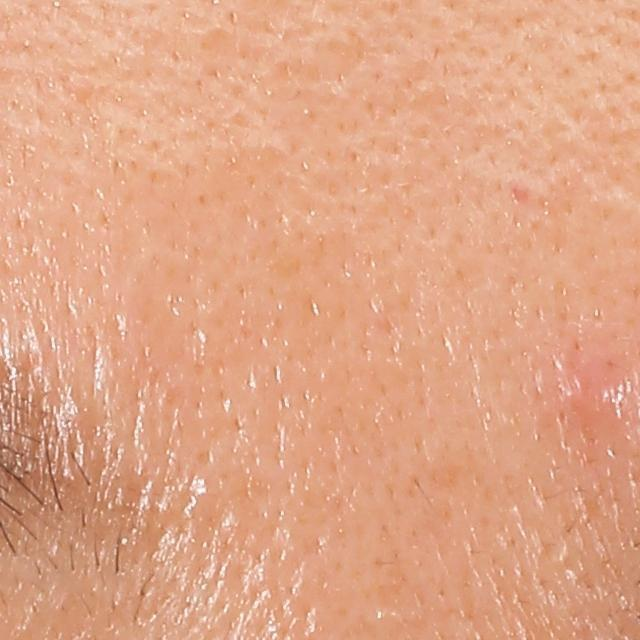papule: (560, 357, 637, 435)
